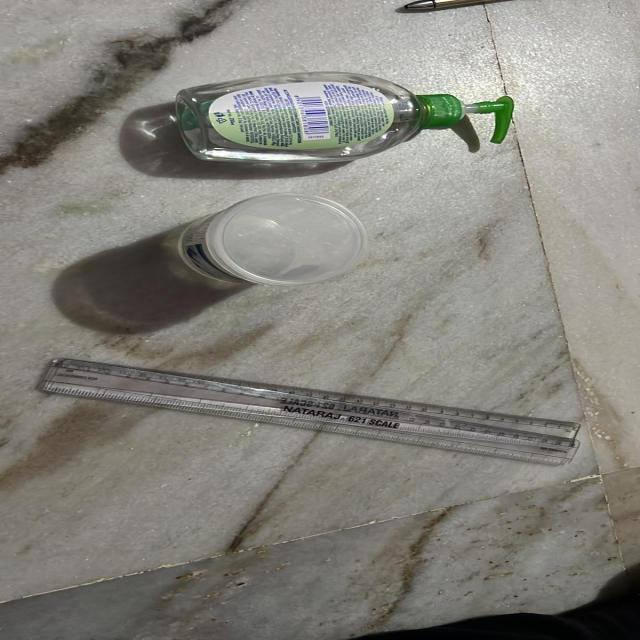plastic: (20, 348, 640, 504), (86, 68, 622, 180), (130, 185, 450, 310)
